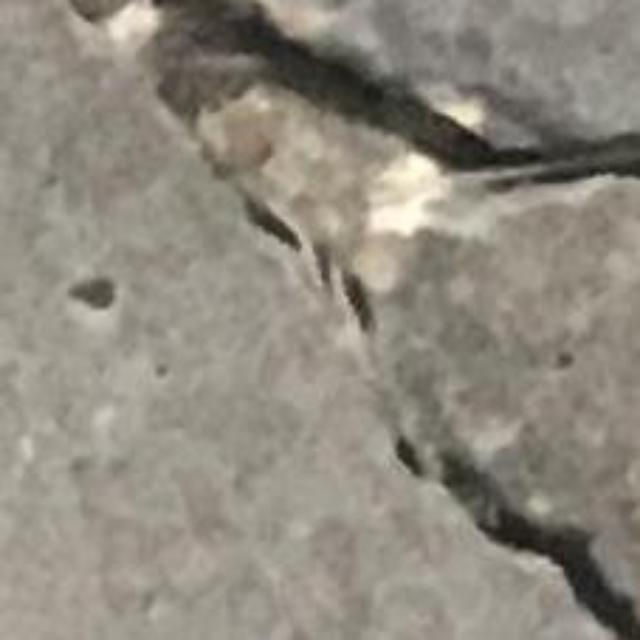crack: (68, 0, 639, 332)
